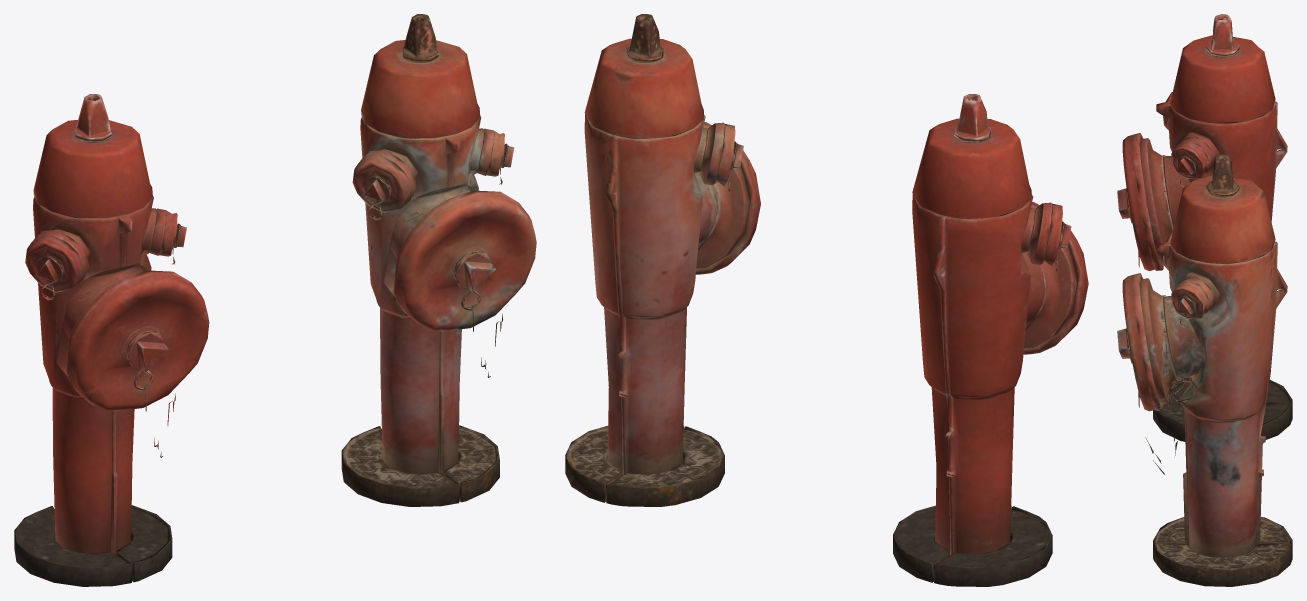
Rendered from fire_hydrant.lod1.glb.
The picture shows the model from 3 angles, left to right: view 1: azimuth 30°, elevation 25°; view 2: azimuth 150°, elevation 25°; view 3: azimuth 270°, elevation 25°; orthographic projection. The views are drawn at different scales.
Visible parts, largest first — view 1: fire_hydrant_aged, fire_hydrant, fire_hydrant_cap_01, fire_hydrant_cap_01_aged, fire_hydrant_cap_03, fire_hydrant_cap_03_aged, fire_hydrant_cap_02, fire_hydrant_cap_02_aged, fire_hydrant_chain, fire_hydrant_chain_aged; view 2: fire_hydrant, fire_hydrant_aged, fire_hydrant_cap_01_aged, fire_hydrant_cap_01, fire_hydrant_cap_03_aged, fire_hydrant_cap_03; view 3: fire_hydrant_aged, fire_hydrant, fire_hydrant_cap_01_aged, fire_hydrant_cap_01, fire_hydrant_cap_02, fire_hydrant_cap_02_aged, fire_hydrant_chain_aged.
Boxes of the visible parts, x1,y1,x2,y2 form: fire_hydrant_aged: (341, 14, 499, 506); fire_hydrant: (14, 94, 172, 586); fire_hydrant_cap_01: (66, 270, 209, 411); fire_hydrant_cap_01_aged: (393, 190, 536, 331); fire_hydrant_cap_03: (25, 235, 83, 292); fire_hydrant_cap_03_aged: (352, 155, 410, 212); fire_hydrant_cap_02: (159, 211, 186, 256); fire_hydrant_cap_02_aged: (486, 131, 514, 176); fire_hydrant_chain: (41, 237, 176, 457); fire_hydrant_chain_aged: (368, 157, 503, 377); fire_hydrant: (893, 94, 1076, 586); fire_hydrant_aged: (565, 14, 748, 506); fire_hydrant_cap_01_aged: (695, 122, 760, 274); fire_hydrant_cap_01: (1023, 202, 1088, 354); fire_hydrant_cap_03_aged: (714, 123, 743, 186); fire_hydrant_cap_03: (1042, 203, 1071, 266); fire_hydrant_aged: (1140, 154, 1292, 586); fire_hydrant: (1140, 14, 1292, 441); fire_hydrant_cap_01_aged: (1117, 273, 1163, 411); fire_hydrant_cap_01: (1117, 133, 1163, 270); fire_hydrant_cap_02: (1171, 141, 1209, 178); fire_hydrant_cap_02_aged: (1171, 282, 1209, 318); fire_hydrant_chain_aged: (1138, 295, 1196, 474).
Bounding box in the file's own units: 0.8745 × 0.7992 × 0.3176.
Materials: 2 (2 with a texture image).
